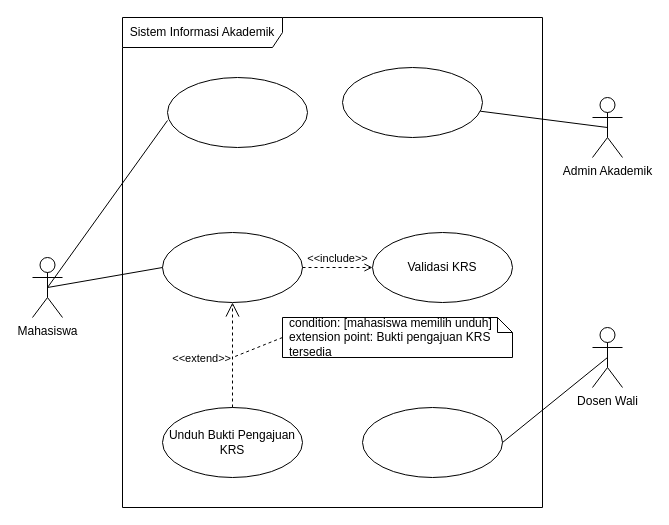
This 669x525 diagram has some shape labels left out. Here are the shapes that lost their labels. From the top down, the centre of each, then its label:
At [237,112]: "Lihat Jadwal Kuliah".
At [412,102]: "Kelola Jadwal kuliah".
At [232,267]: "Ajukan KRS".
At [432,442]: "Proses Keputusan KRS".
